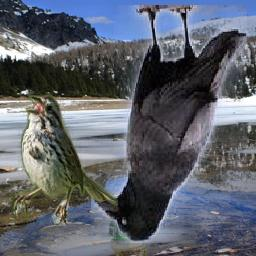Crow: (91, 5, 247, 243)
Sparrow: (10, 94, 119, 227)
